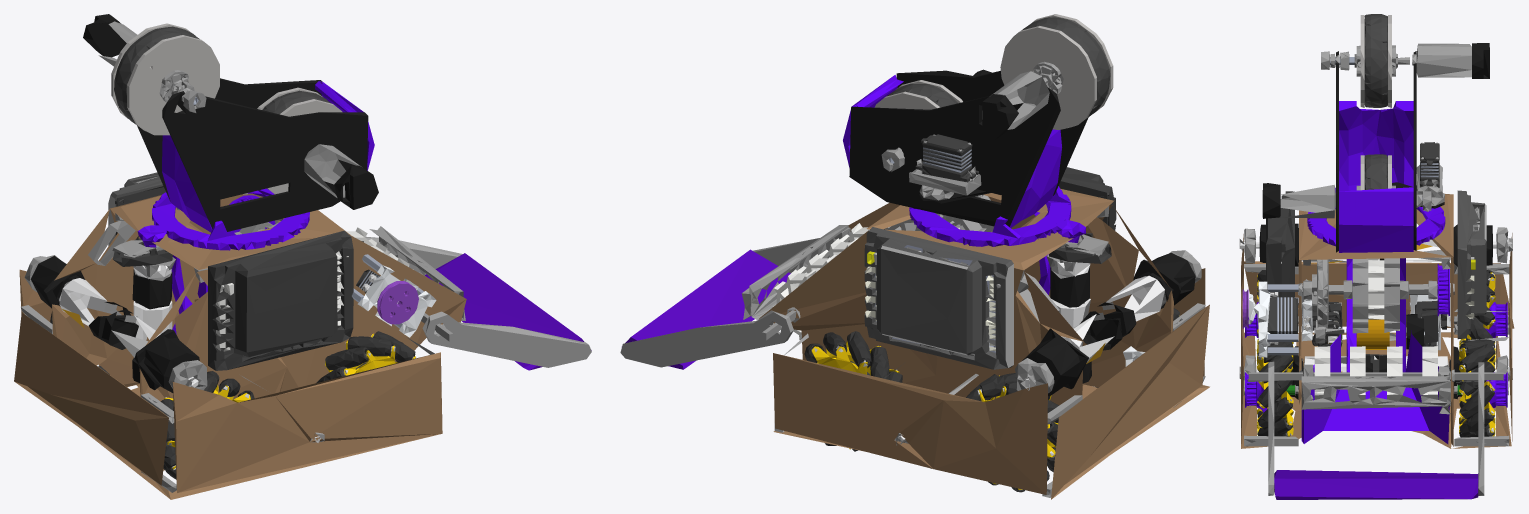
File: bumble-v-low.glb
3 renders of one model, left to right at view 1: azimuth 30°, elevation 25°; view 2: azimuth 150°, elevation 25°; view 3: azimuth 270°, elevation 25°, orthographic. The views are drawn at different scales.
Parts seen in each view (by area): view 1: body, turret, arm, flywheel_top, wheel_fr, flywheel, wheel_br, intake_front; view 2: body, turret, arm, flywheel_top, wheel_fl, intake_front, flywheel, wheel_bl, intake_back; view 3: body, turret, arm, intake_back, intake_front, wheel_fl, flywheel_top, wheel_fr, wheel_bl, flywheel, wheel_br.
Part boxes in pixels (x1,y1,x2,y2): body: (14, 172, 466, 499); turret: (83, 14, 378, 250); arm: (365, 236, 591, 370); flywheel_top: (111, 23, 219, 135); wheel_fr: (316, 331, 416, 382); flywheel: (257, 87, 342, 194); wheel_br: (160, 371, 254, 479); intake_front: (341, 227, 453, 341); body: (741, 167, 1209, 499); turret: (843, 69, 1088, 246); arm: (620, 238, 833, 369); flywheel_top: (1000, 14, 1113, 129); wheel_fl: (804, 331, 902, 451); intake_front: (762, 223, 869, 340); flywheel: (874, 80, 962, 109); wheel_bl: (966, 373, 1058, 492); intake_back: (885, 195, 993, 231); body: (1239, 190, 1514, 448); turret: (1262, 43, 1489, 252); arm: (1268, 361, 1484, 499); intake_back: (1298, 258, 1454, 333); intake_front: (1248, 346, 1503, 401); wheel_fl: (1453, 339, 1508, 437); flywheel_top: (1354, 14, 1397, 107); wheel_fr: (1244, 342, 1298, 436); wheel_bl: (1453, 269, 1508, 364); flywheel: (1356, 154, 1395, 190); wheel_br: (1245, 270, 1298, 364).
Size of the model in its own units: 0.4587 by 0.4038 by 0.2804.
